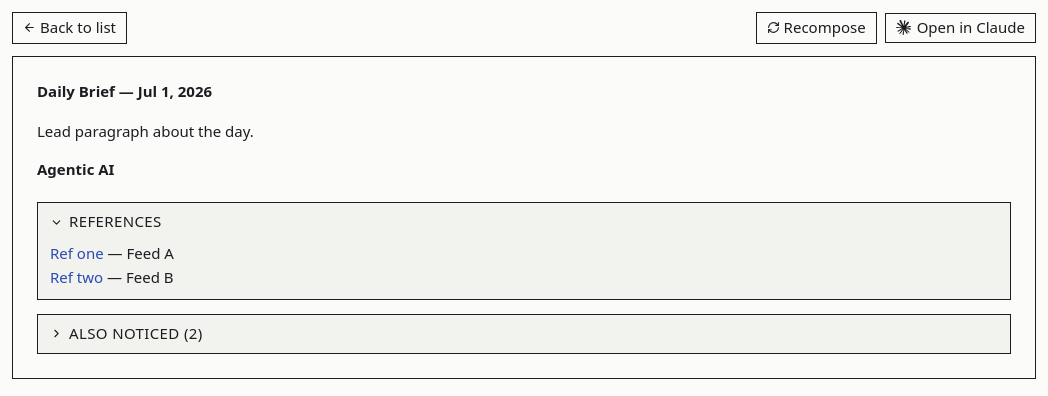
Test case: BriefReader sections › toggles the References panel closed
The image size is (1048, 396).
Step 1. Click the button with aria-label "collapse references" → (115, 221), box [38, 203, 1010, 241]
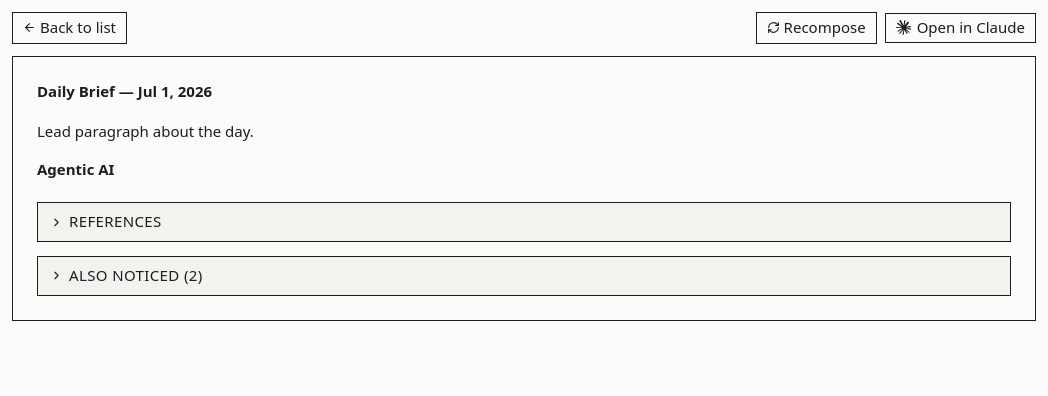
Check: the link "Ref one" is gone
